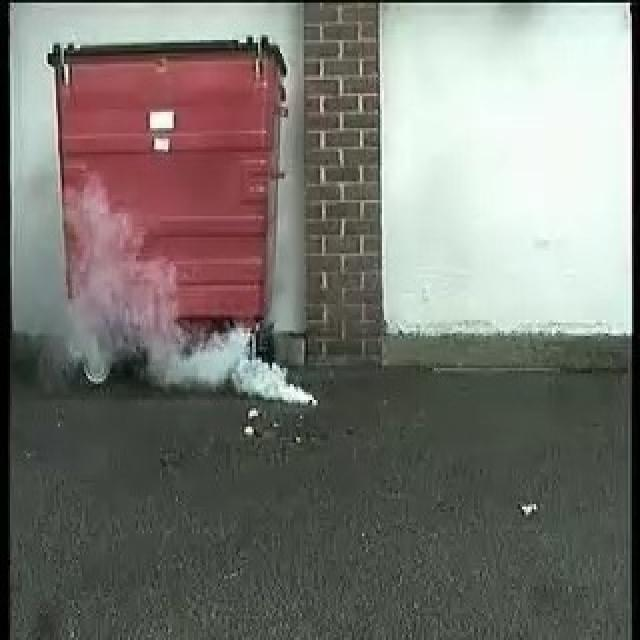Smoke: (66, 218, 316, 410)
